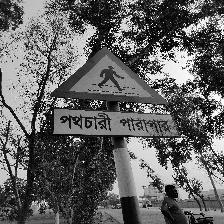Pedestrian-crossing: (49, 47, 178, 137)
